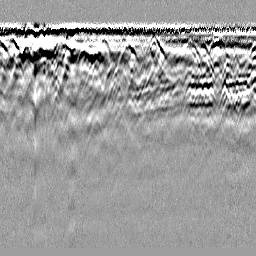cavity: (117, 39, 140, 65)
